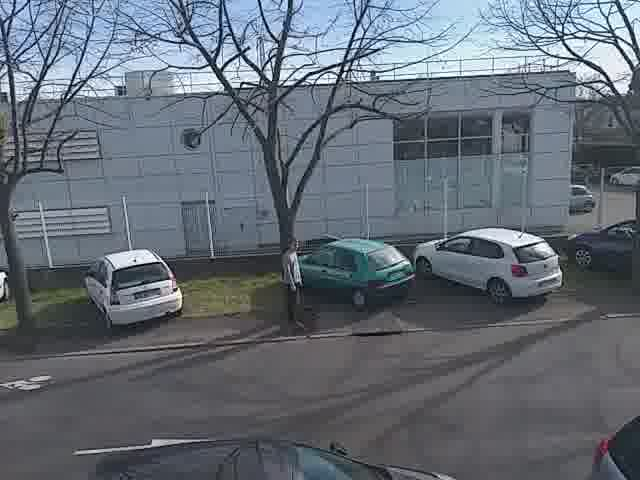persona: (274, 232, 309, 337)
